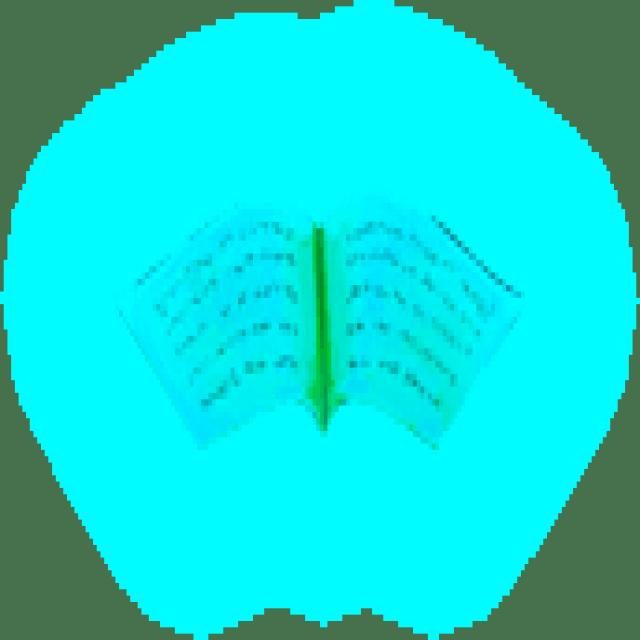Background Image: (0, 0, 636, 633)
Testimonial Quotes: (119, 196, 521, 450)
Text Elements: (138, 209, 301, 412)
